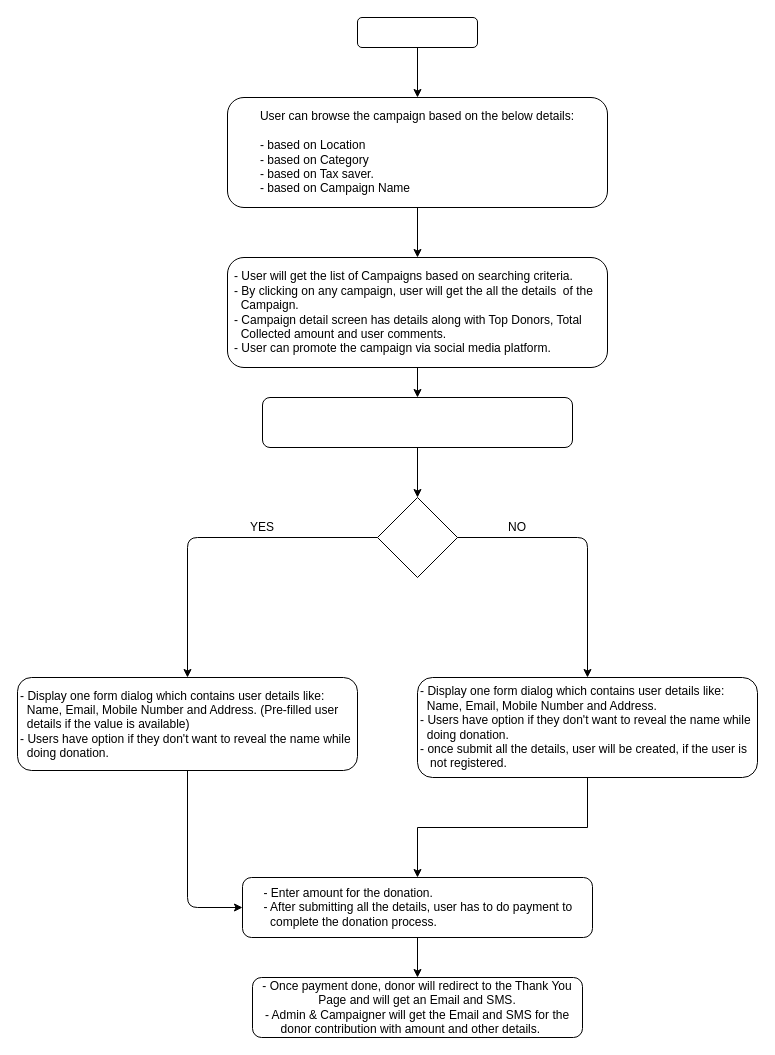
Image size: 775x1055. Some labels were removed from this diagram. Each missing label, with the centre of its shape:
Donate Flow: pixel 417 32
Is user login?: pixel 417 537
User click on " Donate Now " button to donate for the campaign.: pixel 417 422
